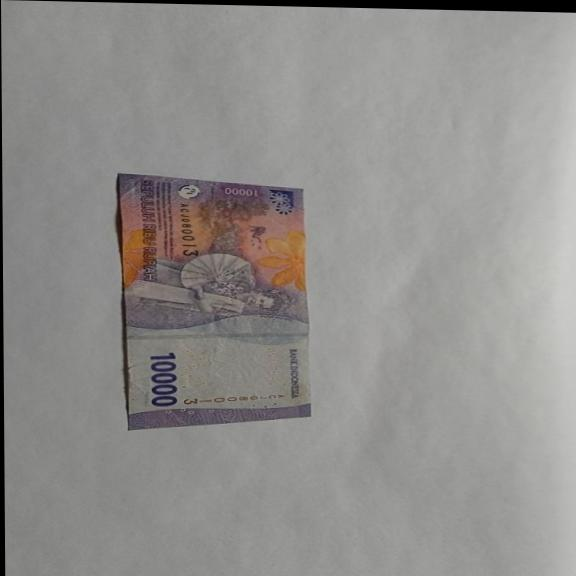Kertas: (116, 172, 313, 434), (148, 351, 180, 407)
